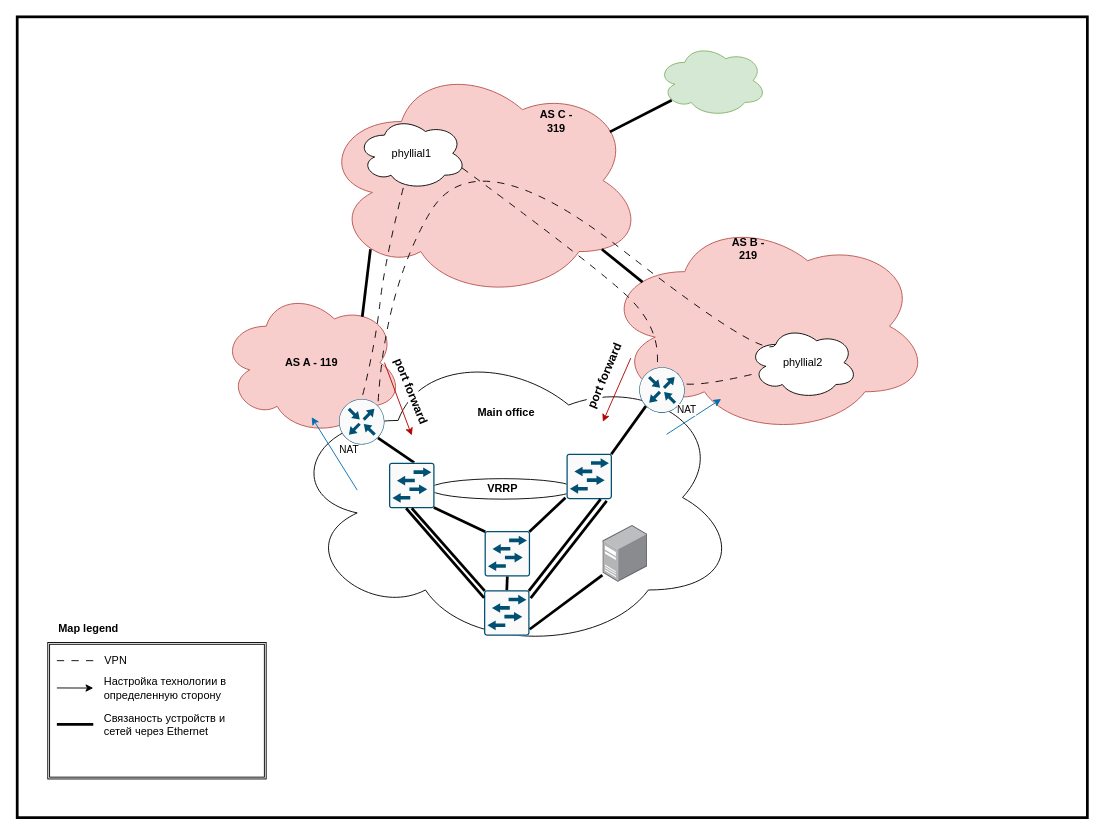
Image size: 1104x834. Some labels were removed from this diagram. The shapes that lost their labels are listed below. From the top down, each one's box as (x1, y1, x2, y2) in pixels, then its label:
(657, 43, 767, 117): internet
(602, 525, 647, 582): PROXMOX server
